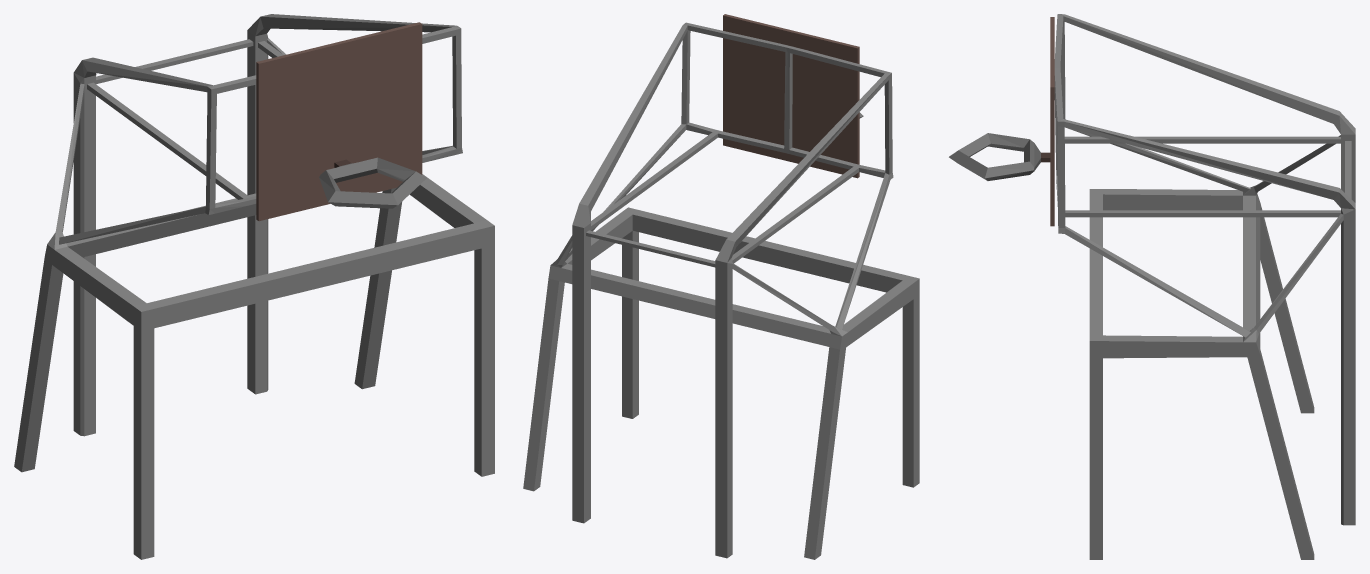
File: Model_Koszyk.fbx
3 renders of one model, left to right at view 1: azimuth 30°, elevation 25°; view 2: azimuth 150°, elevation 25°; view 3: azimuth 270°, elevation 25°, orthographic. The views are drawn at different scales.
Parts seen in each view (by area): view 1: Cube; view 2: Cube; view 3: Cube.
Part boxes in pixels (box(x1,y1,x2,y2)): Cube: box(14, 14, 494, 559); Cube: box(523, 14, 919, 559); Cube: box(949, 14, 1355, 559).
Size of the model in its own units: 362 by 424 by 320.
